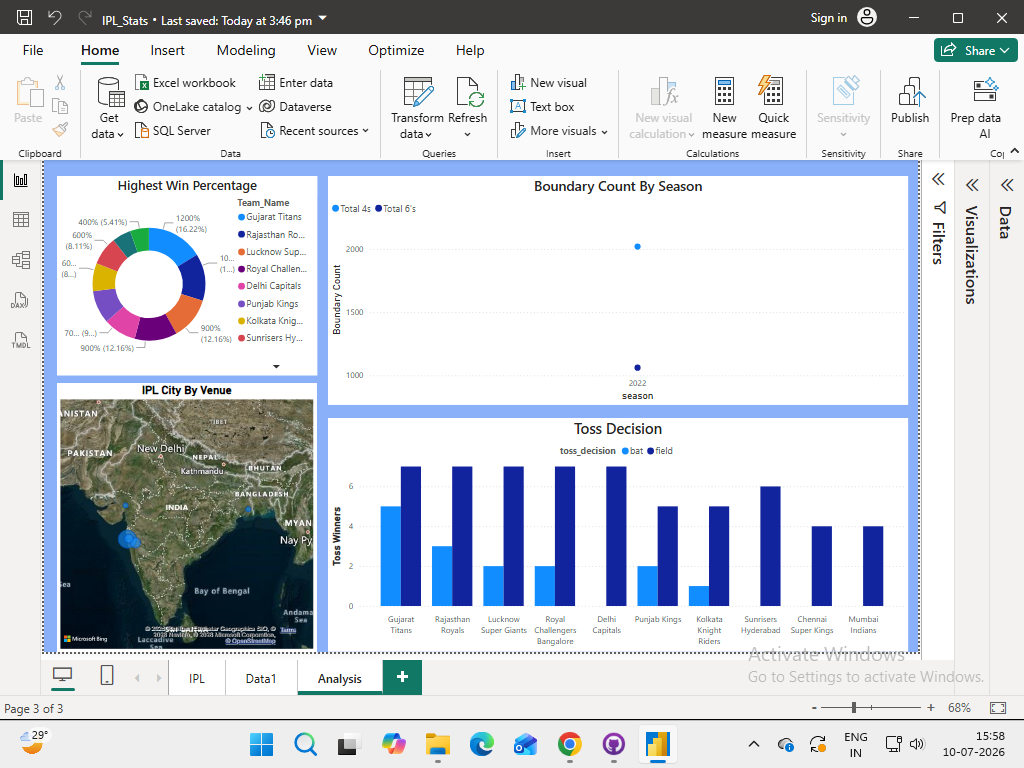

What the dashboard file says about the page in this screenshot:
{"tool":"powerbi","page":{"name":"Analysis","canvas":[1280,720],"ordinal":2},"visuals":[{"type":"donutChart","title":"Highest Win Percentage","fields":{"Category":["teams_data.team_name"],"Y":["CountNonNull(ipl_matches_data.result)"]},"box":[19.6,23.9,381,291.7],"z":0},{"type":"map","title":"IPL City By Venue ","fields":{"Size":["CountNonNull(ipl_matches_data.venue)"],"Category":["ipl_matches_data.city"]},"box":[19.2,326.1,380.2,394.1],"z":1000},{"type":"lineChart","title":"Boundary Count By Season","fields":{"Category":["ipl_matches_data.season"],"Y":["ipl_matches_data.Total 4s","ipl_matches_data.Total 6's"]},"box":[415.8,23.9,849,335.2],"z":2000},{"type":"clusteredColumnChart","title":"Toss Decision","fields":{"Category":["teams_data.team_name"],"Series":["ipl_matches_data.toss_decision"],"Y":["CountNonNull(ipl_matches_data.toss_winner)"]},"box":[416,359,849,361],"z":3000}]}

Visuals, with their boxes on the page's 1280x720 design canvas (x1, y1, x2, y2). These are canvas units, not pixel positions in the 1024x768 screenshot, which may show the page scaled, cropped or inside an application window:
"Highest Win Percentage" donutChart: BBox(20, 24, 401, 316)
"IPL City By Venue " map: BBox(19, 326, 399, 720)
"Boundary Count By Season" lineChart: BBox(416, 24, 1265, 359)
"Toss Decision" clusteredColumnChart: BBox(416, 359, 1265, 720)
